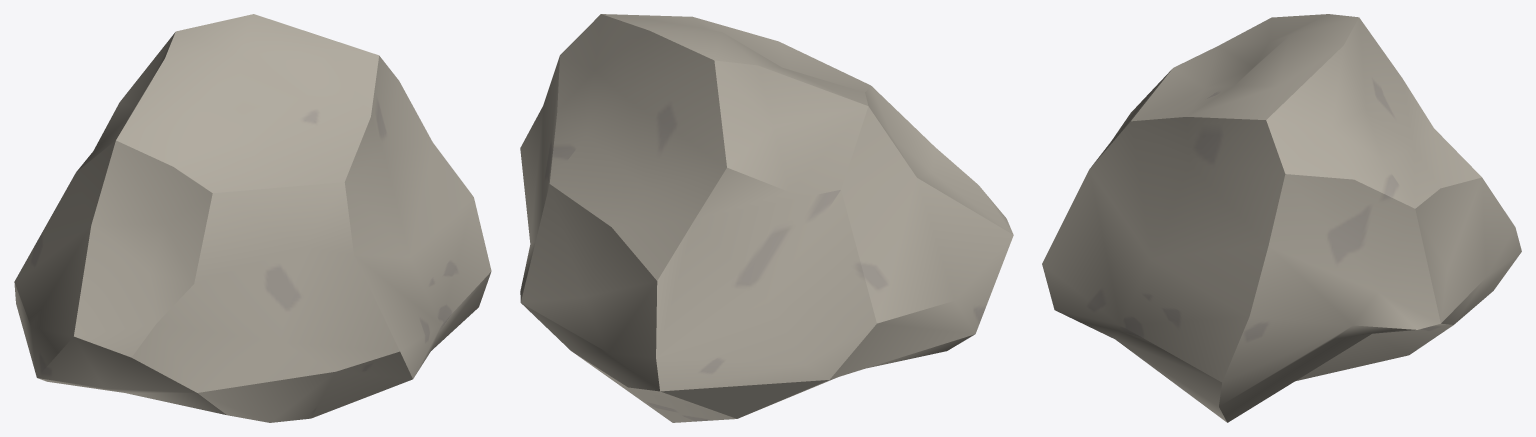
The model's file is Rock 2.fbx.
3 views of the same model, side by side, from view 1: azimuth 30°, elevation 25°; view 2: azimuth 150°, elevation 25°; view 3: azimuth 270°, elevation 25° (orthographic). The views are drawn at different scales.
Parts seen in each view (by area): view 1: Rock 2; view 2: Rock 2; view 3: Rock 2.
Boxes of the visible parts, x1,y1,x2,y2 form: Rock 2: [14, 14, 491, 422]; Rock 2: [520, 14, 1013, 422]; Rock 2: [1042, 14, 1521, 422].
Bounding box in the file's own units: 295 × 223 × 281.
